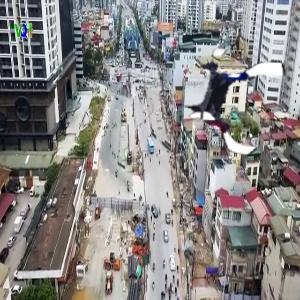drone: (179, 47, 292, 160)
